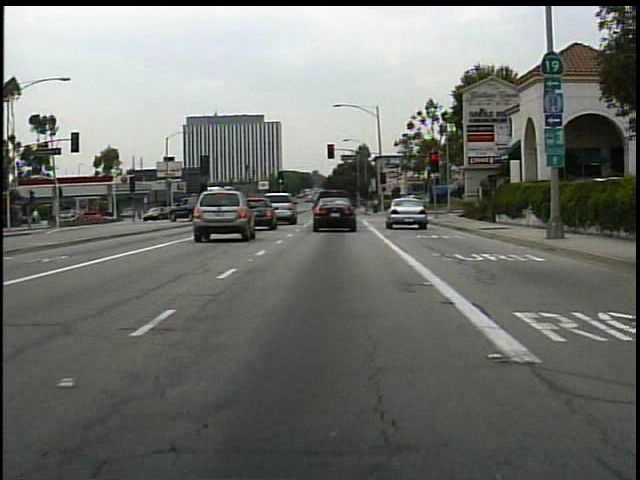person: (371, 196, 381, 217)
